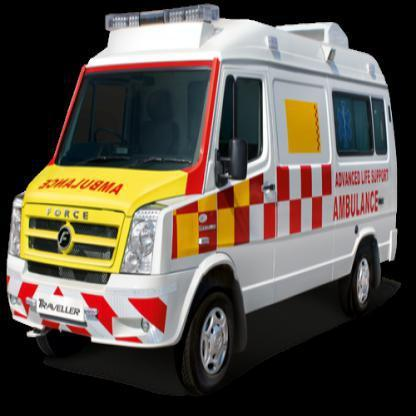Ambulance - v1 Ambulance last generate: (1, 2, 402, 374)
